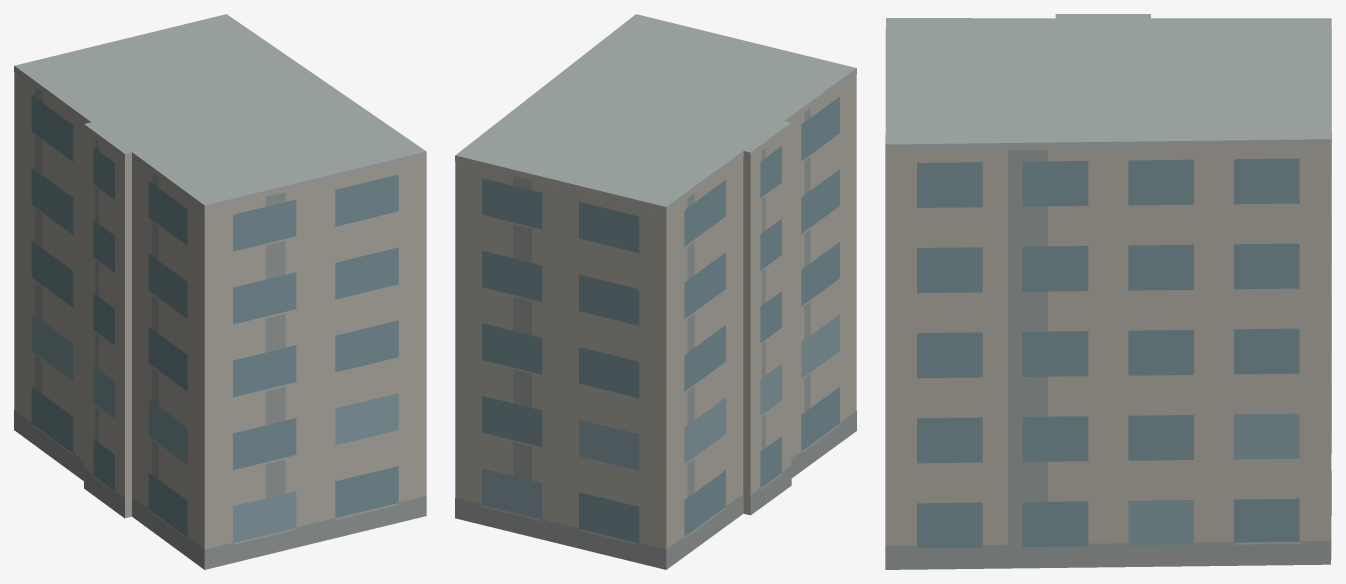
File: survey-upis-32885166.glb
3 views of the same model, side by side, from view 1: azimuth 30°, elevation 25°; view 2: azimuth 150°, elevation 25°; view 3: azimuth 270°, elevation 25° (orthographic). The views are drawn at different scales.
Parts seen in each view (by area): view 1: survey-upis-32885166.tmp; view 2: survey-upis-32885166.tmp; view 3: survey-upis-32885166.tmp.
Boxes of the visible parts, x1,y1,x2,y2 form: survey-upis-32885166.tmp: [14, 14, 426, 569]; survey-upis-32885166.tmp: [455, 14, 856, 569]; survey-upis-32885166.tmp: [885, 14, 1331, 569].
Size of the model in its own units: 9.39 by 14.25 by 13.57.
